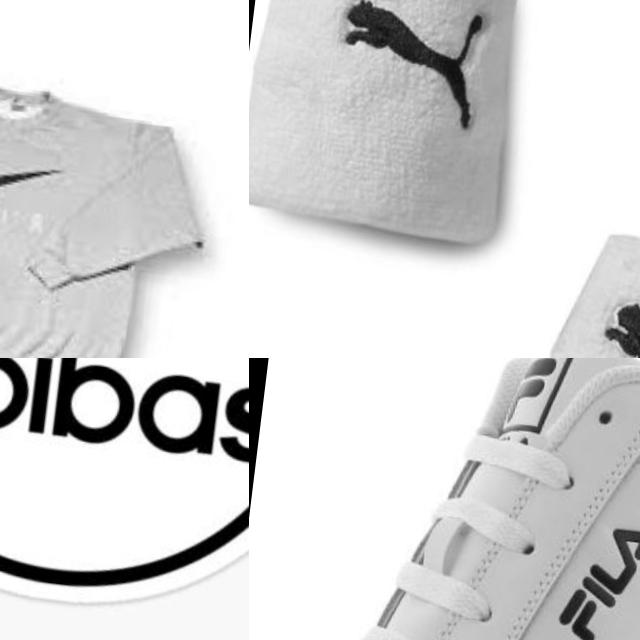ADIDAS_fake: (0, 358, 249, 484), (0, 358, 249, 483)
FILA_original: (543, 515, 640, 640)
NIKE_original: (0, 146, 77, 213)
PUMA_original: (322, 0, 507, 151)
